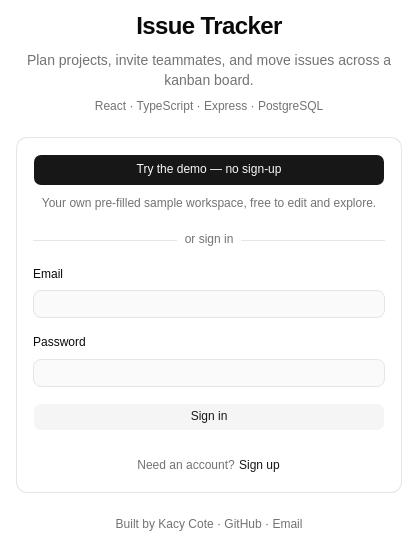
locks every button while an email sign-in is pending
In the field labelled "Email": (209, 304) [33,290,385,318], type "kacy@test.dev"
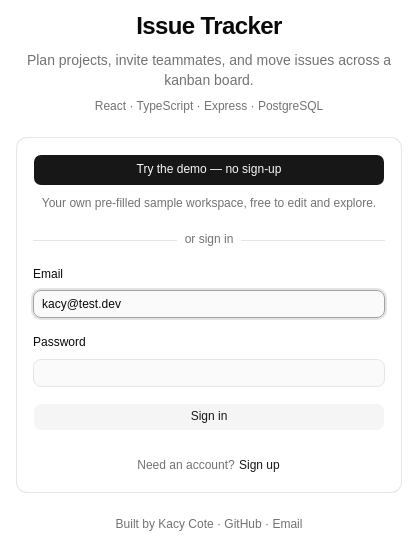
In the password field labelled "Password": (209, 372) [33,358,385,386], type "hunter22"
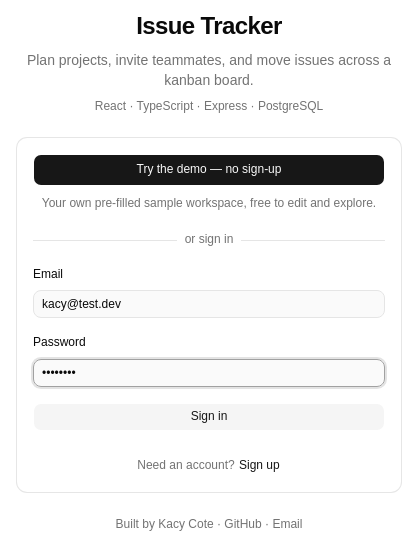
Click the button "Sign in": (209, 416) [33,402,385,430]
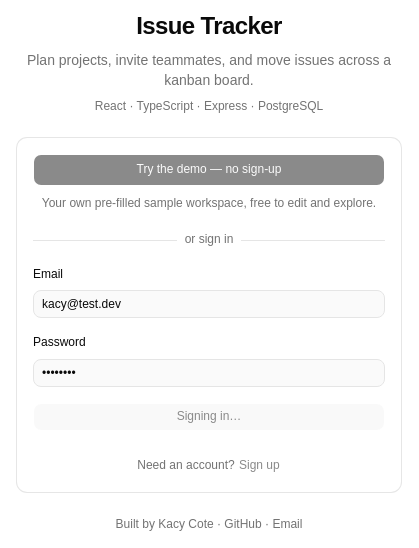
Expected: the button named "Sign in" is disabled, [33,402,385,430]
Expected: the button "Try the demo — no sign-up" is disabled, [33,154,385,186]
Expected: the button "Sign up" is disabled, [238,454,281,476]
